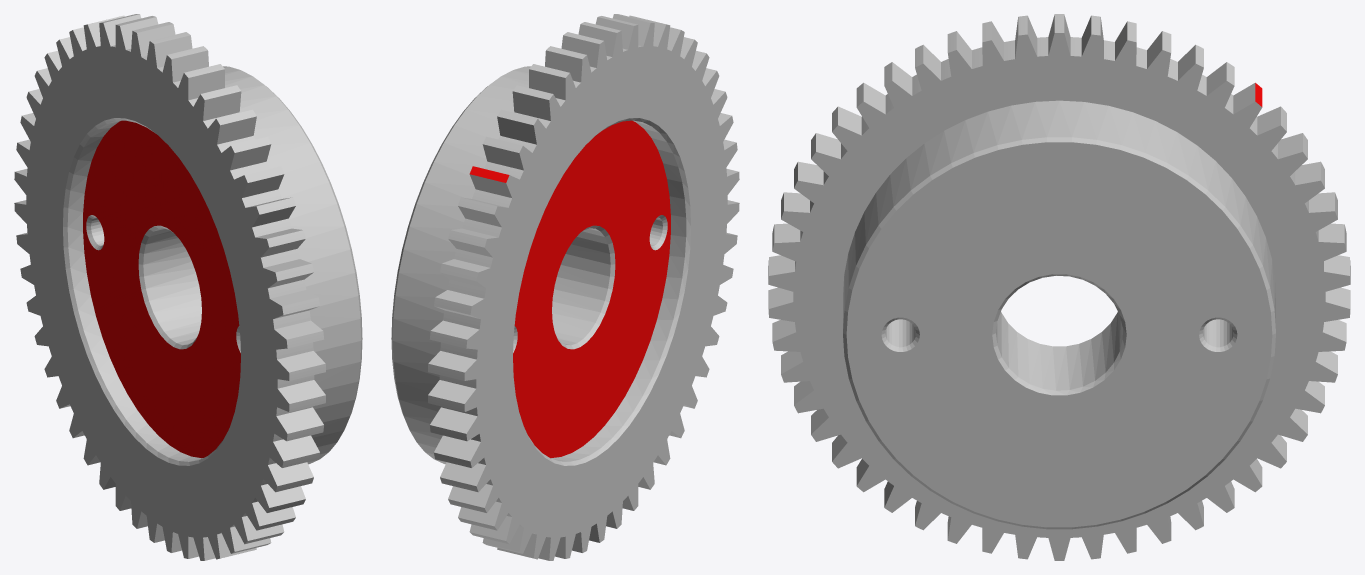
File: 963504_RW44_IT08_stp_208_20.obj
The picture shows the model from 3 angles, left to right: view 1: azimuth 30°, elevation 25°; view 2: azimuth 150°, elevation 25°; view 3: azimuth 270°, elevation 25°; orthographic projection. The views are drawn at different scales.
Parts seen in each view (by area): view 1: Object1; view 2: Object1; view 3: Object1.
Boxes of the visible parts, box(x1,y1,x2,y2) form: Object1: box(14, 14, 362, 560); Object1: box(391, 14, 739, 560); Object1: box(768, 14, 1350, 560).
Size of the model in its own units: 18 by 78 by 77.92.
